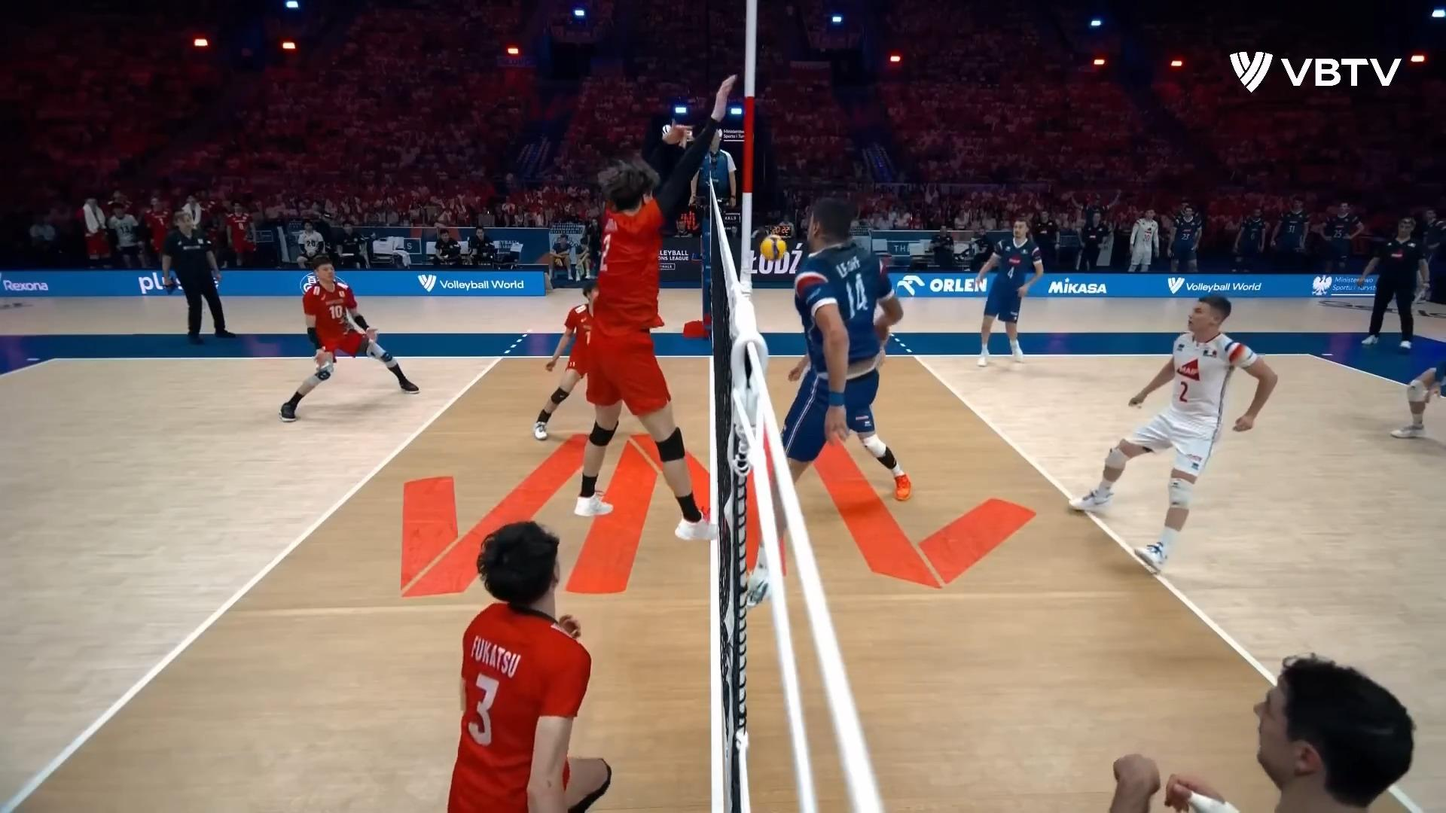ball: (758, 231, 790, 263)
